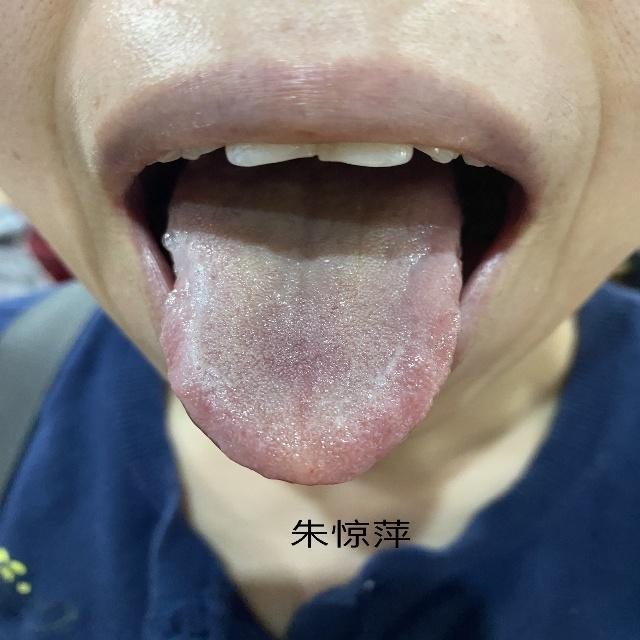baitaishe: (159, 201, 463, 487)
chihenshe: (159, 239, 184, 315)
